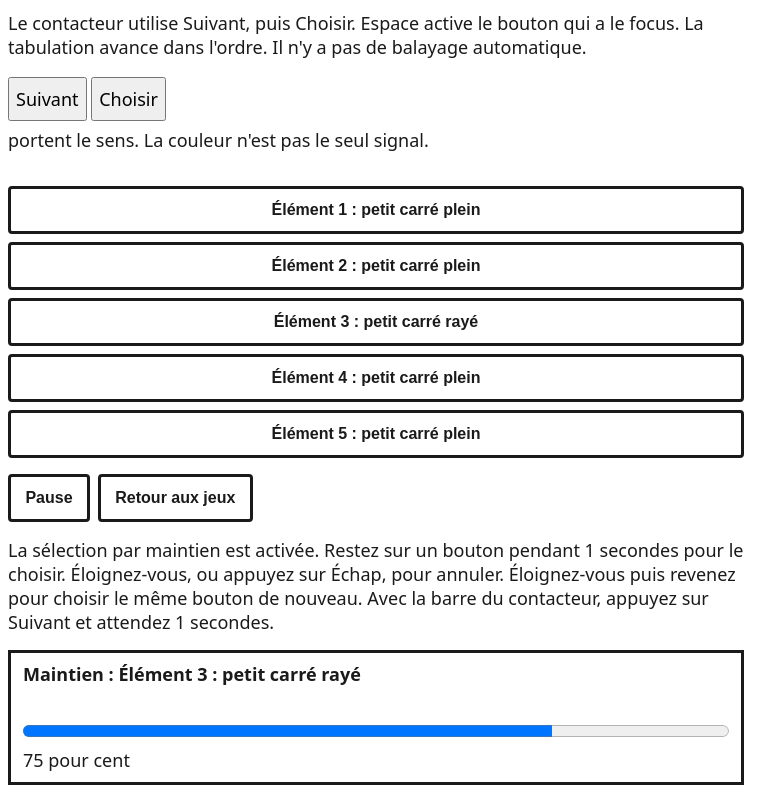
Odd One Out on the screen › plays a full round by dwell select alone, in French
Earlier steps of the test are not shown.
Later steps or results of the test are not shown.
(page scrolled)
Expected: the progress indicator is shown, [23,719,729,743]
Click the button "Élément 3 : petit carré rayé" at (376, 322), box [8,298,744,346]
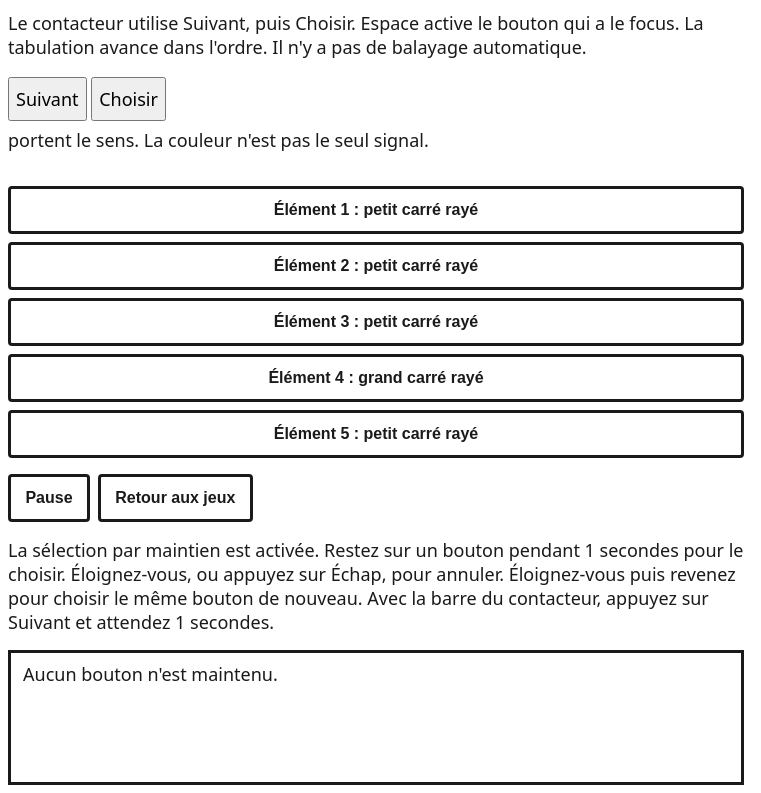
Expected: the button does not show ""
Hover over the button "Élément 4 : grand carré rayé" at (376, 378), box [8,354,744,402]
Wait 1000 ms
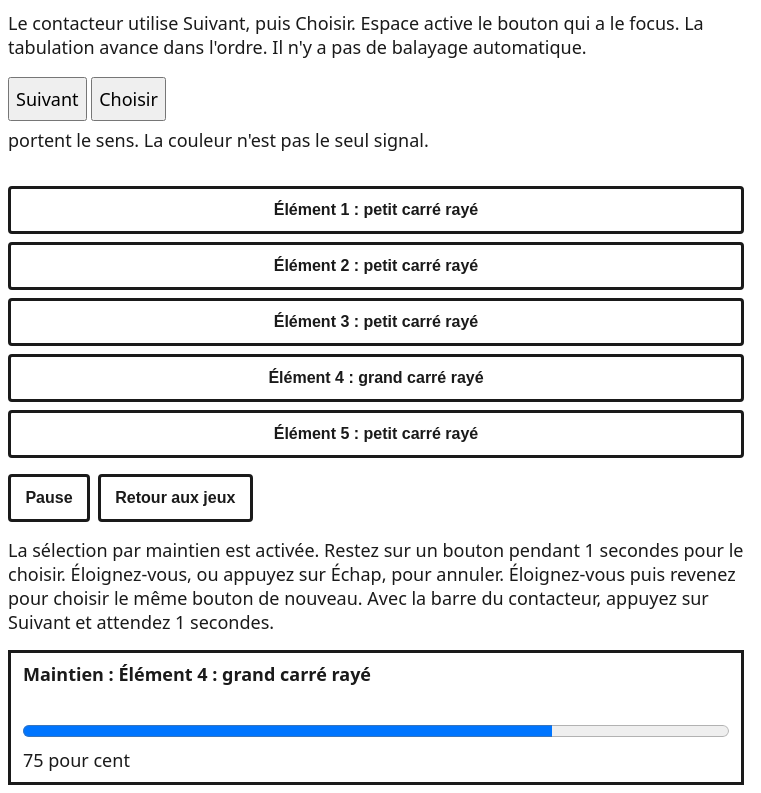
Expected: the progress indicator is shown, [23,719,729,743]
Click the button "Élément 4 : grand carré rayé" at (376, 378), box [8,354,744,402]
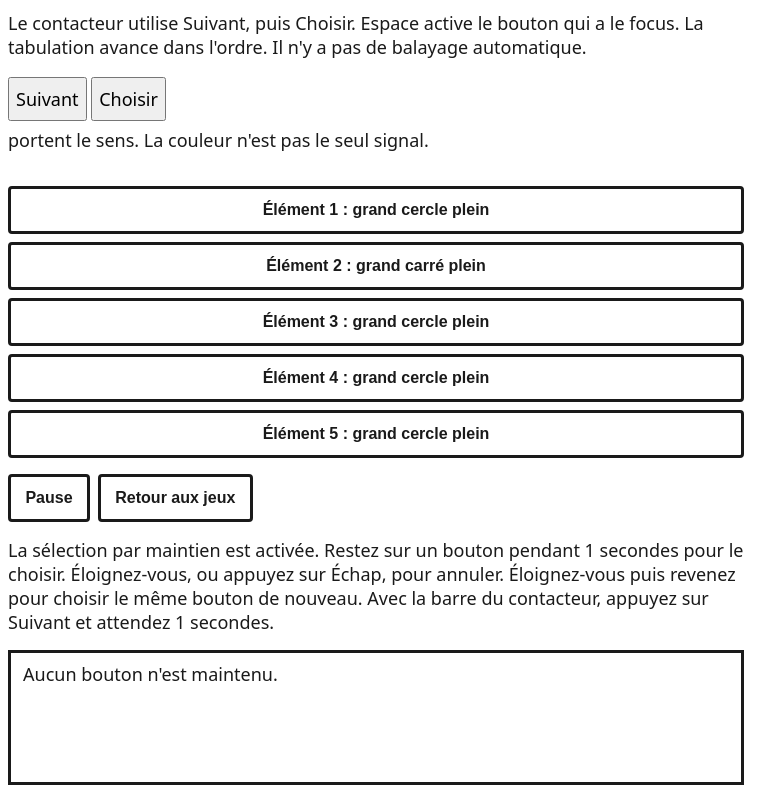
Expected: the button does not show ""
Hover over the button "Élément 2 : grand carré plein" at (376, 266), box [8,242,744,290]
Wait 1000 ms
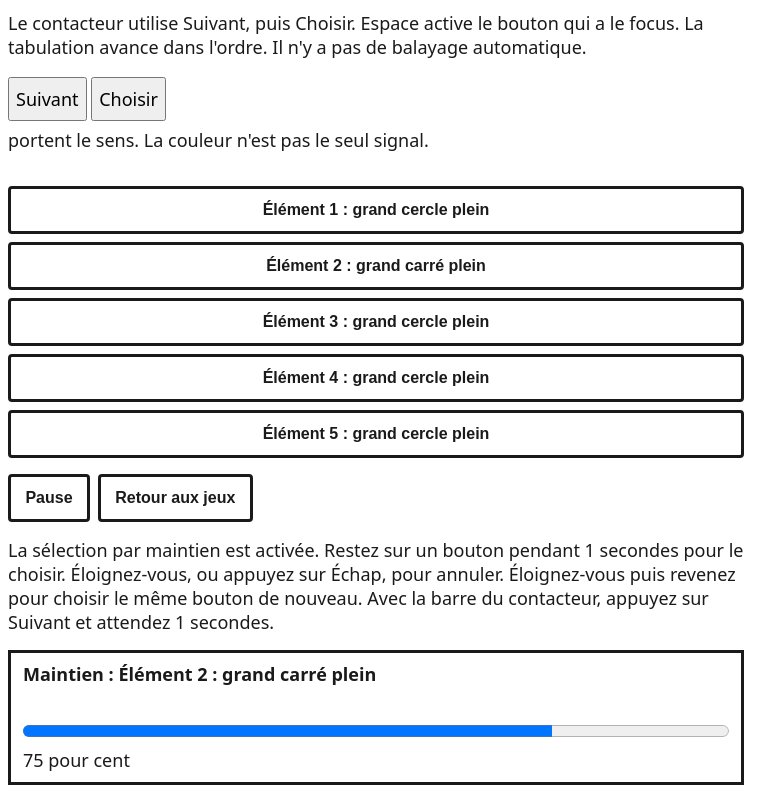
Expected: the progress indicator is shown, [23,719,729,743]
Click the button "Élément 2 : grand carré plein" at (376, 266), box [8,242,744,290]
Wait 10000 ms
(page scrolled)
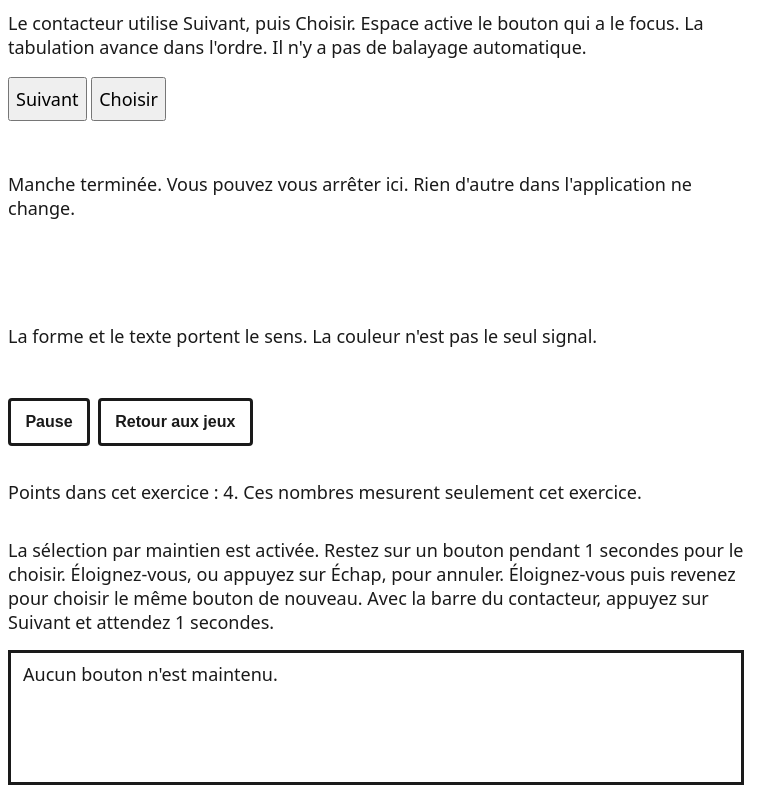
Expected: the text "Manche terminée. Vous pouvez vous arrêter ici. Rien d'autre dans l'application ne change." is shown, [8,172,692,220]
Hover over the button "Retour aux jeux" at (175, 422), box [98,398,253,446]
Wait 1000 ms
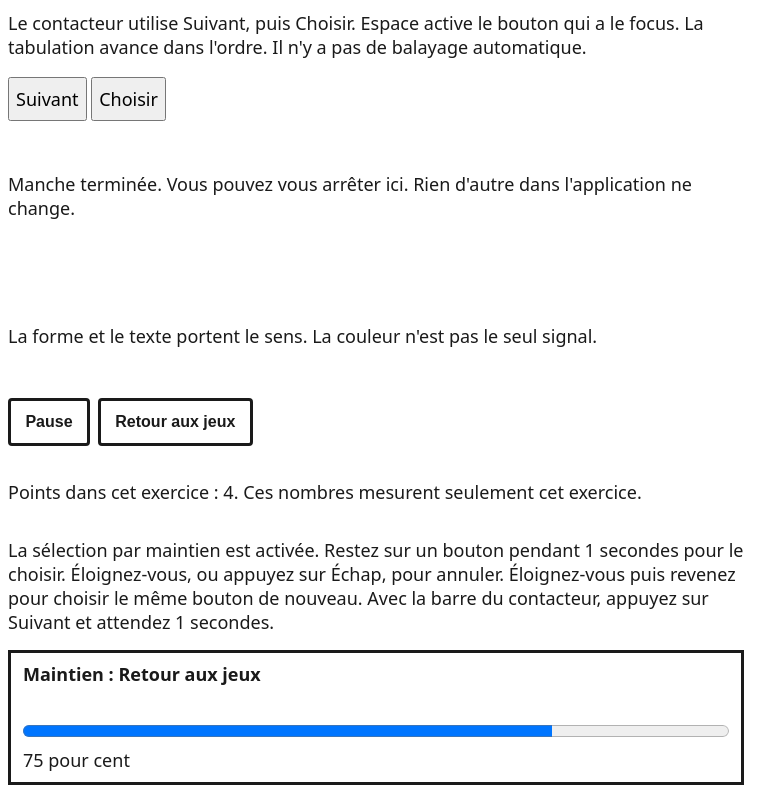
Expected: the progress indicator is shown, [23,719,729,743]
